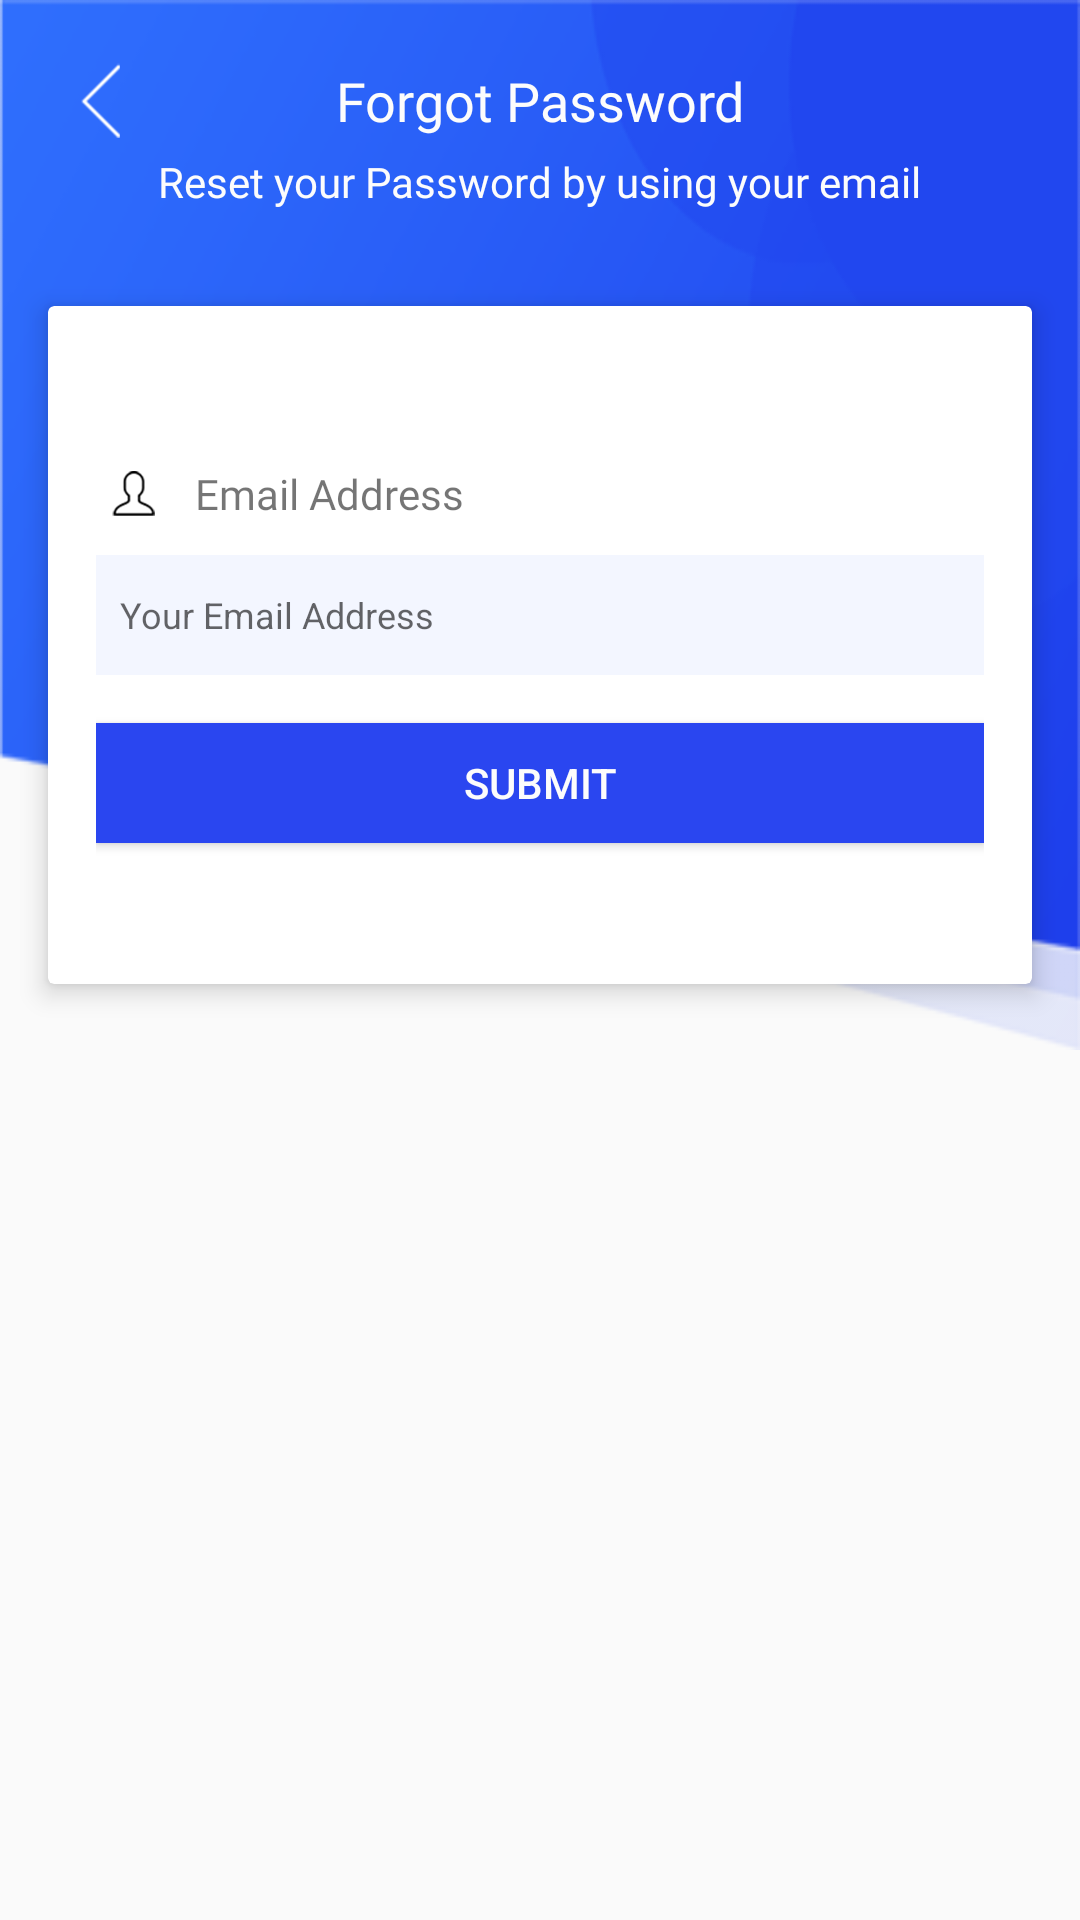

Screen size 1080 x 1920. Icon name, then its box in pixels as box=[x1, y1, x2, y2]:
back: box=[81, 64, 120, 138]
user: box=[112, 471, 155, 516]
